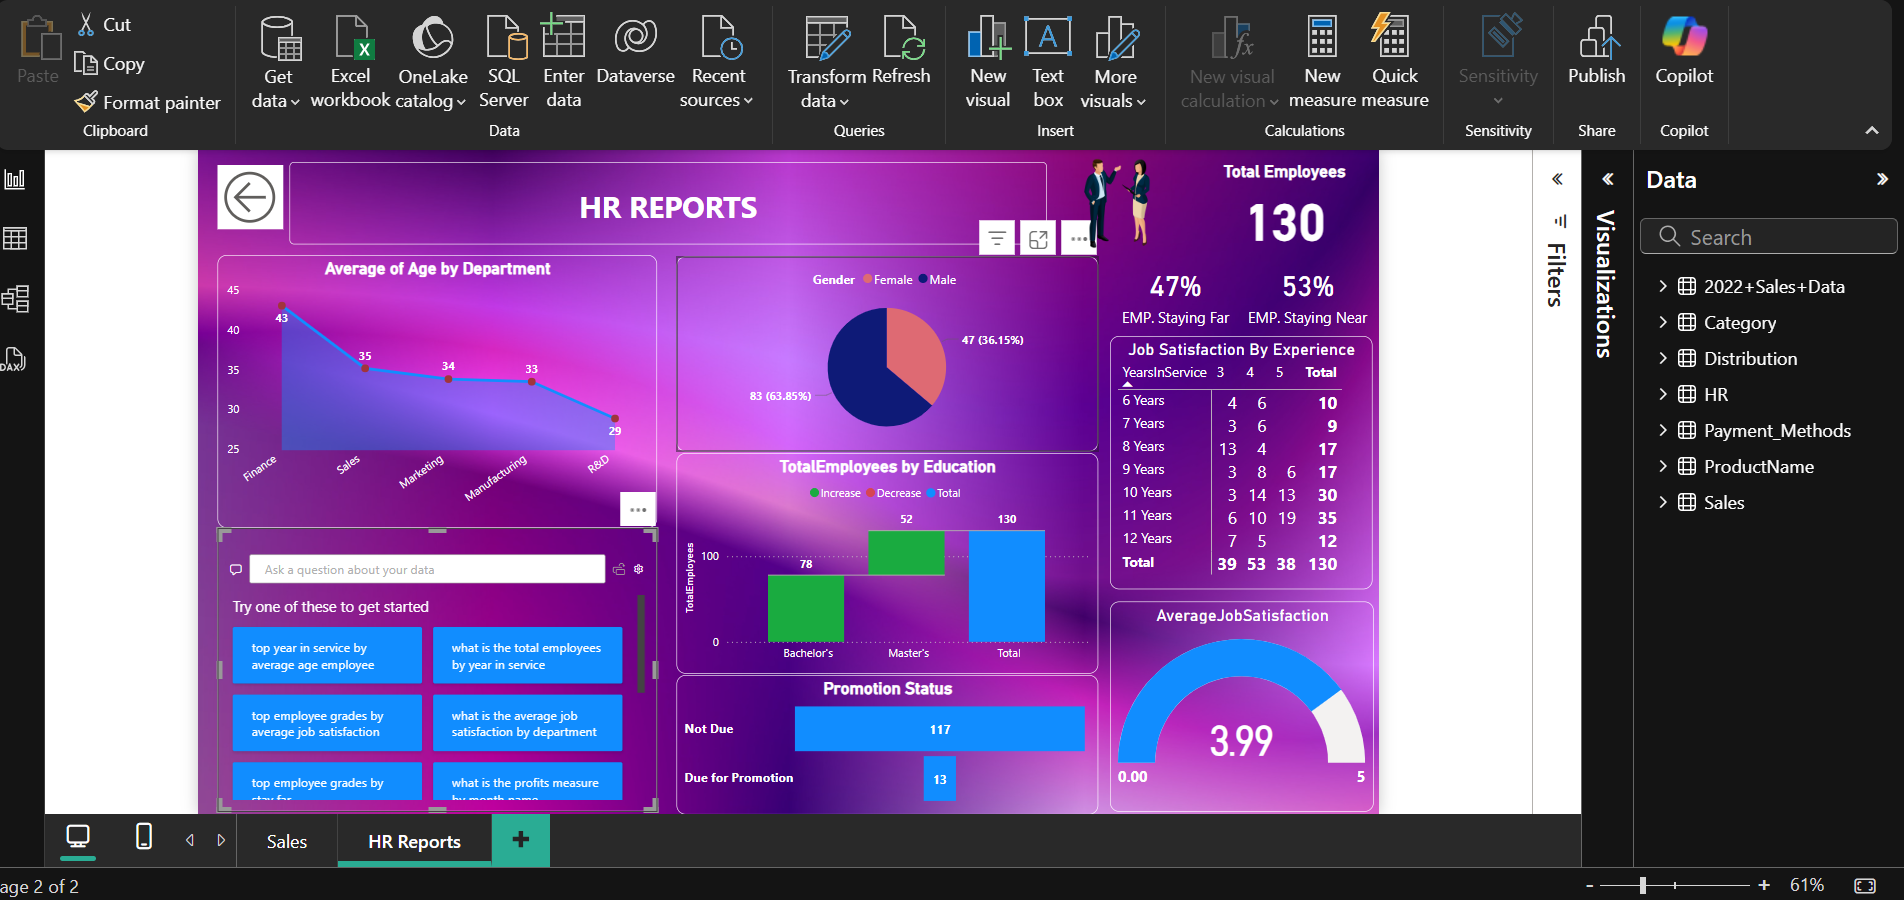

What the dashboard file says about the page in this screenshot:
{"tool":"powerbi","page":{"name":"HR Reports","canvas":[1280,720],"ordinal":1},"visuals":[{"type":"textbox","box":[99.2,13,821.4,89.5],"z":0},{"type":"actionButton","box":[21.1,16.3,71.6,69.9],"z":1000},{"type":"areaChart","fields":{"Category":["HR.Department"],"Y":["Avg(HR.Age)"]},"box":[21.1,113.9,476.6,296],"z":2000},{"type":"pieChart","fields":{"Series":["HR.Gender"],"Y":["HR.TotalEmployees"]},"box":[518.9,115.5,457.1,211.5],"z":3000},{"type":"image","box":[938.5,0,122,115.5],"z":4000},{"type":"card","title":"Total Employees","fields":{"Values":["HR.TotalEmployees"]},"box":[1083.3,13,190.3,102.5],"z":5000},{"type":"card","fields":{"Values":["HR.%DistanceFar"]},"box":[988.9,115.5,141.5,86.2],"z":6000},{"type":"card","fields":{"Values":["HR.%DistanceNear"]},"box":[1132.1,115.5,141.5,86.2],"z":7000},{"type":"pivotTable","title":"Job Satisfaction By Experience","fields":{"Rows":["HR.YearsInService"],"Columns":["HR.JobSatisfation"],"Values":["HR.TotalEmployees"]},"box":[988.9,201.7,284.6,274.9],"z":8000},{"type":"gauge","title":"AverageJobSatisfaction","fields":{"Y":["HR.AverageJobSatisfaction"],"MaxValue":["Max(HR.JobSatisfation)"]},"box":[988.9,489.6,286.3,227.7],"z":9000},{"type":"waterfallChart","fields":{"Category":["HR.Education"],"Y":["HR.TotalEmployees"]},"box":[518.9,328.6,457.1,239.1],"z":10000},{"type":"funnel","title":"Promotion Status","fields":{"Category":["HR.PromotionStatus"],"Y":["CountNonNull(HR.Emp_ID)"]},"box":[518.9,569.3,457.1,151.3],"z":11000},{"type":"qnaVisual","box":[21.1,409.9,476.6,307.4],"z":12000}]}

Visuals, with their boxes on the page's 1280x720 design canvas (x1, y1, x2, y2). These are canvas units, not pixel positions in the 1904x900 screenshot, which may show the page scaled, cropped or inside an application window:
textbox: [99,13,921,102]
actionButton: [21,16,93,86]
areaChart - HR.Department x Avg(HR.Age): [21,114,498,410]
pieChart - HR.Gender x HR.TotalEmployees: [519,116,976,327]
image: [938,0,1060,116]
"Total Employees" card: [1083,13,1274,116]
card - HR.%DistanceFar: [989,116,1130,202]
card - HR.%DistanceNear: [1132,116,1274,202]
"Job Satisfaction By Experience" pivotTable: [989,202,1274,477]
"AverageJobSatisfaction" gauge: [989,490,1275,717]
waterfallChart - HR.Education x HR.TotalEmployees: [519,329,976,568]
"Promotion Status" funnel: [519,569,976,721]
qnaVisual: [21,410,498,717]
